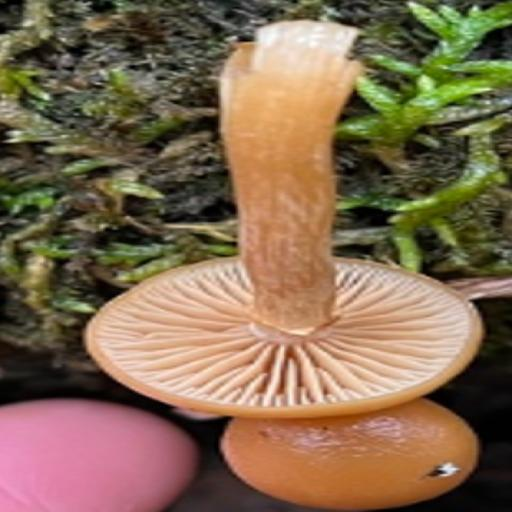mushroom: (71, 227, 512, 509)
